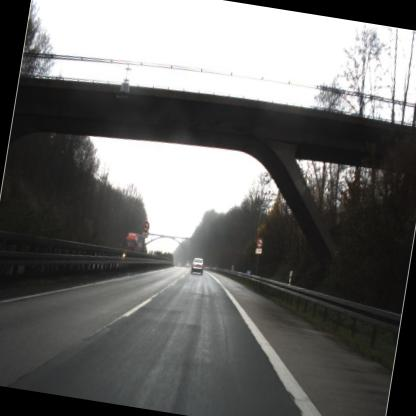prohibitory: (254, 233, 266, 248), (141, 219, 150, 234)
